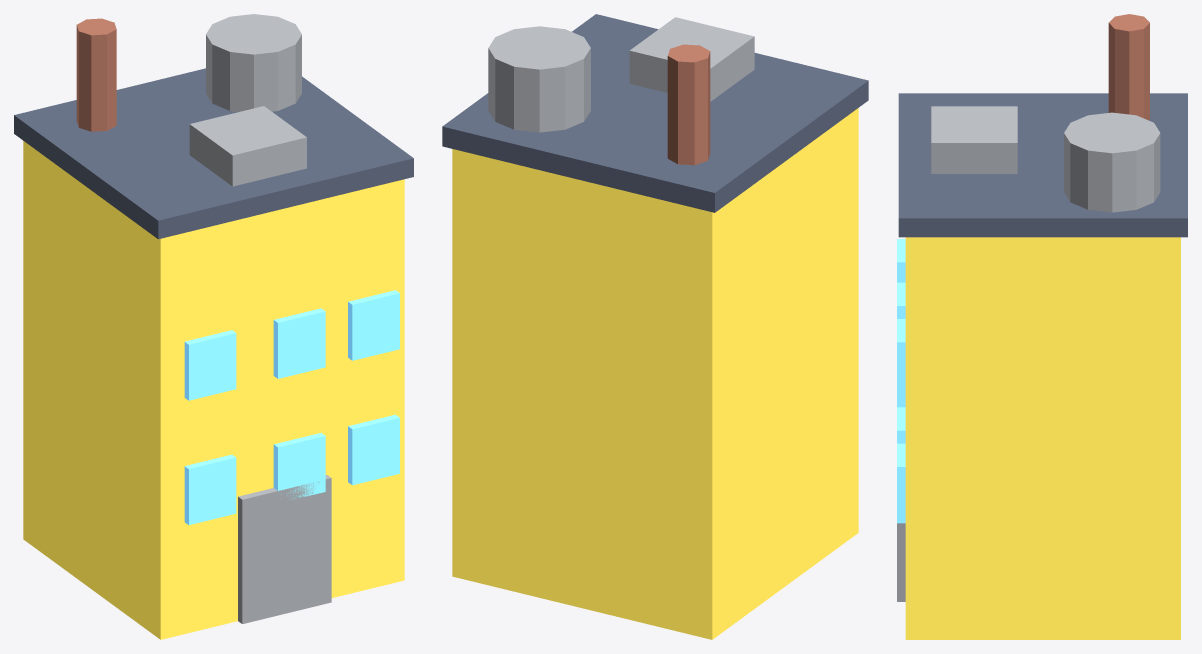
Rendered from industrial_3.glb.
3 views of the same model, side by side, from view 1: azimuth 30°, elevation 25°; view 2: azimuth 150°, elevation 25°; view 3: azimuth 270°, elevation 25° (orthographic). The views are drawn at different scales.
Visible parts, largest first — view 1: industrial_3; view 2: industrial_3; view 3: industrial_3.
Part boxes in pixels (x1,y1,x2,y2): industrial_3: [14, 14, 413, 639]; industrial_3: [442, 14, 868, 639]; industrial_3: [897, 14, 1187, 639].
Bounding box in the file's own units: 0.86 × 1.67 × 0.845.
